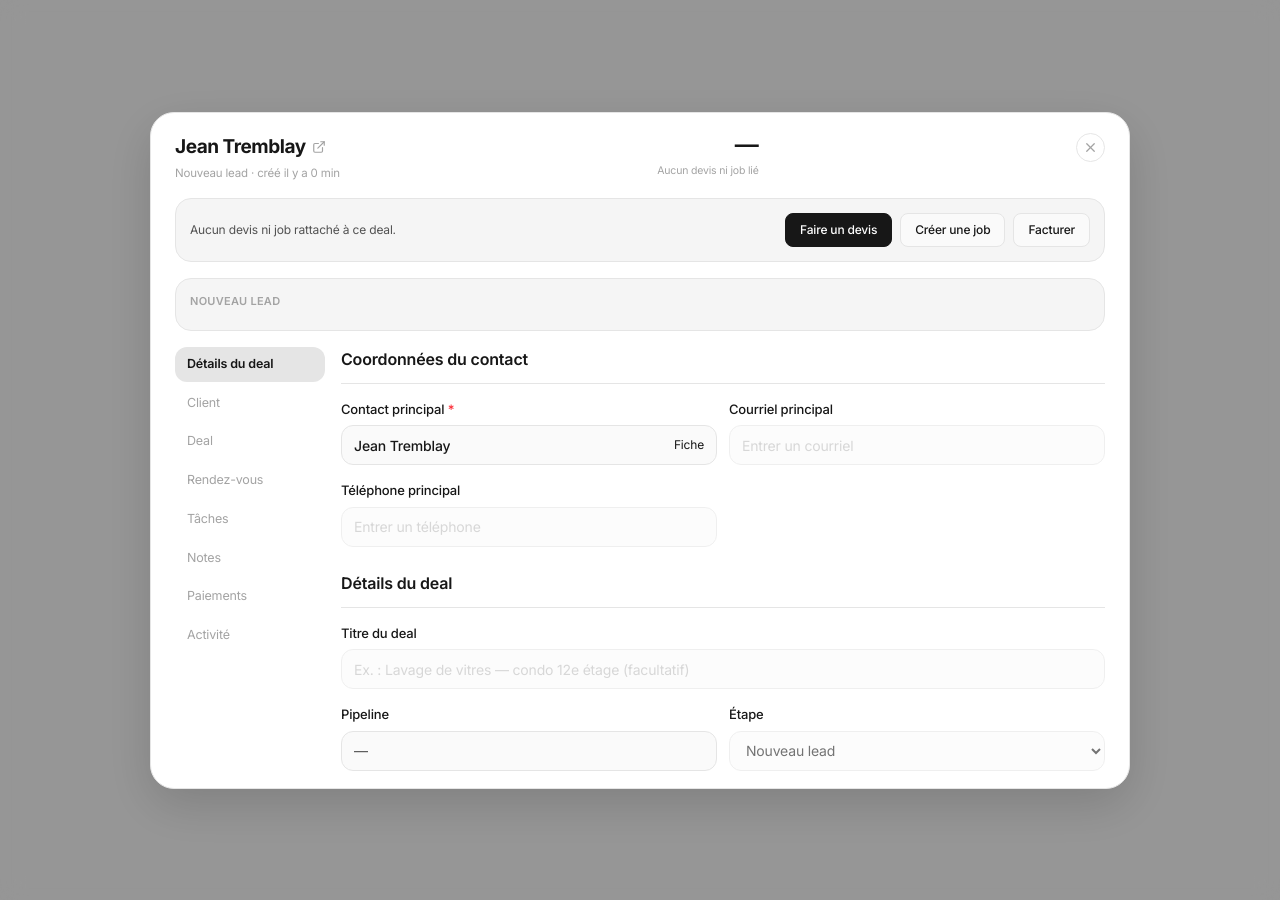
Test: fiche du deal — dossier du client › dit « premier contact » quand le client n'a aucun historique
Step 1. Click the tab "Client" → (250, 403), box [175,386,325,420]
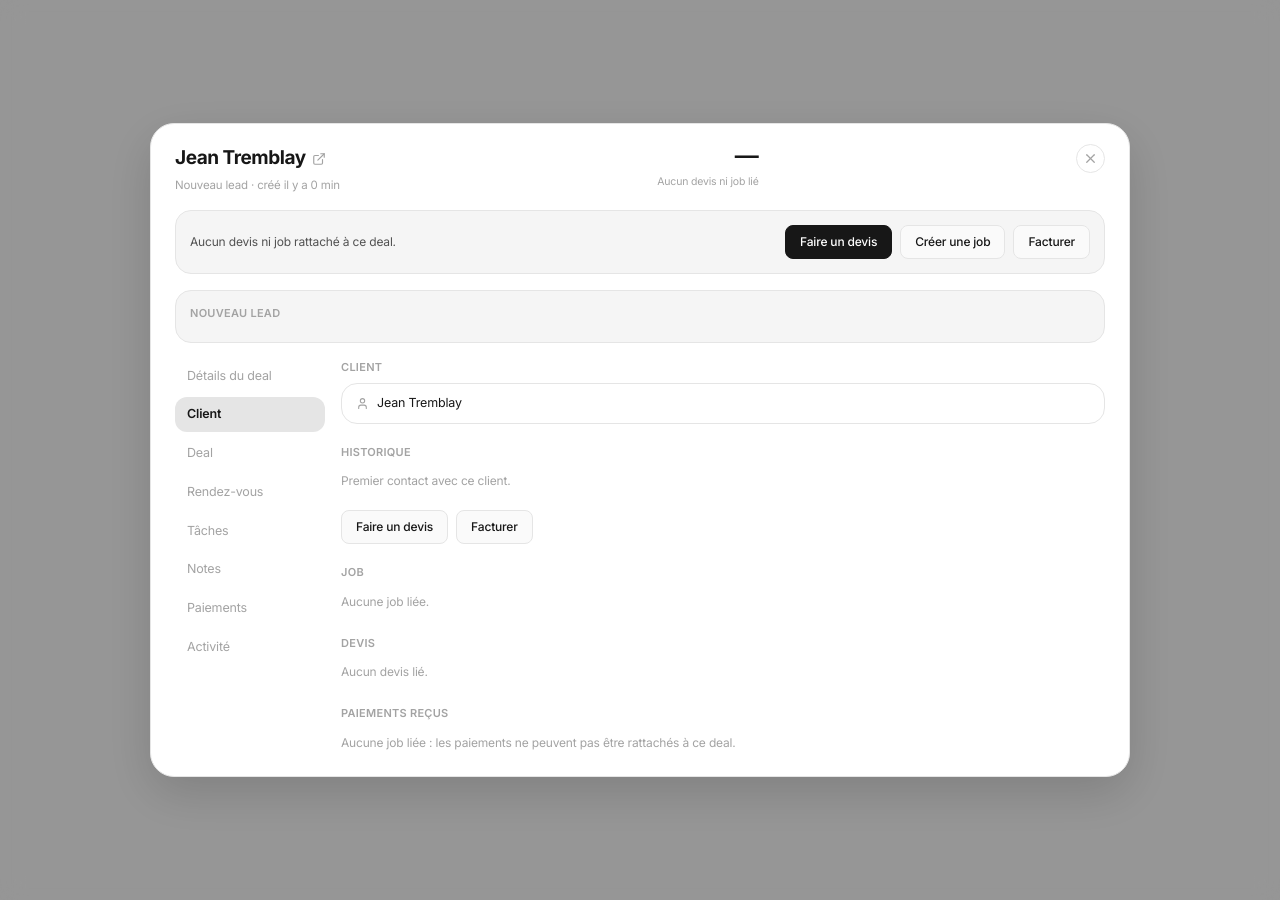
Expected: the text "Premier contact" is shown, [341,473,510,488]
